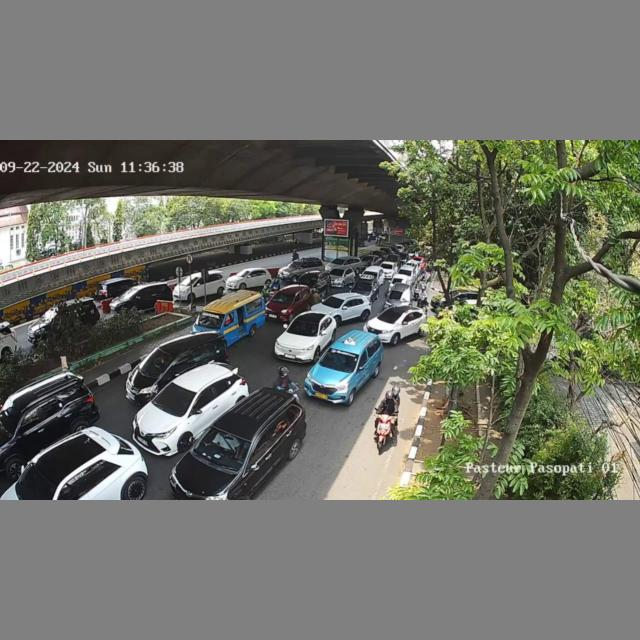windshield: (193, 427, 251, 470), (154, 382, 197, 416), (319, 351, 359, 373), (136, 351, 176, 372), (284, 317, 323, 336), (196, 311, 226, 328), (380, 310, 405, 326), (271, 291, 296, 304), (387, 289, 412, 302), (322, 296, 344, 309), (354, 281, 372, 291)
